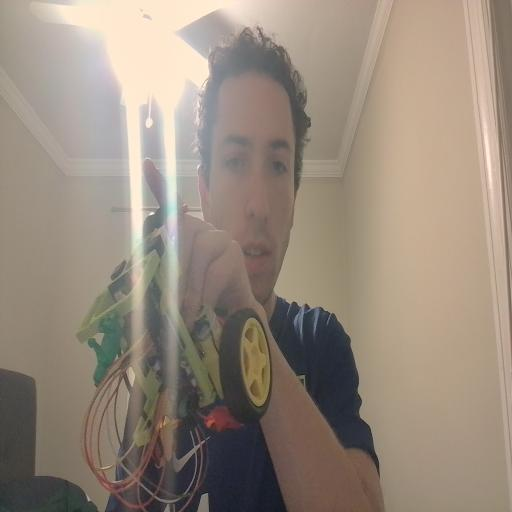green LEGO minifig: (87, 310, 129, 390)
